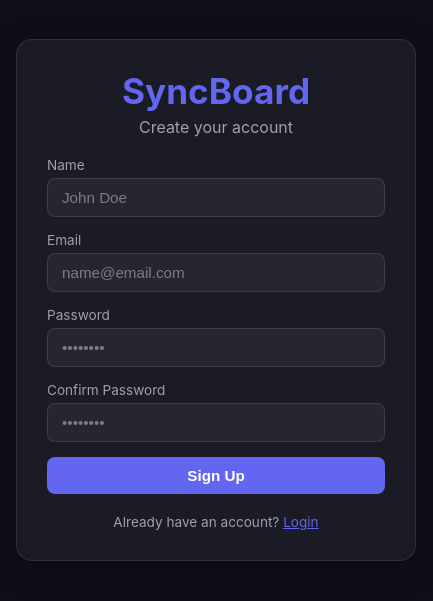
Scenario: SignUp Page › shows error when passwords do not match
Step 1. Type "Test User" into the field with placeholder "John Doe" → [216, 198], box [47,178,385,217]
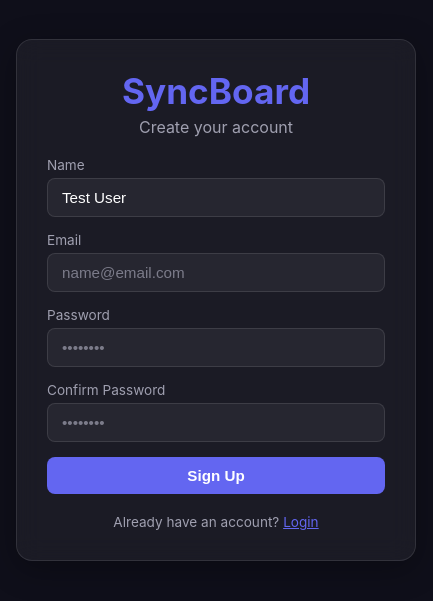
Step 2. Type "test@example.com" into the field with placeholder "name@email.com" → [216, 272], box [47,253,385,292]
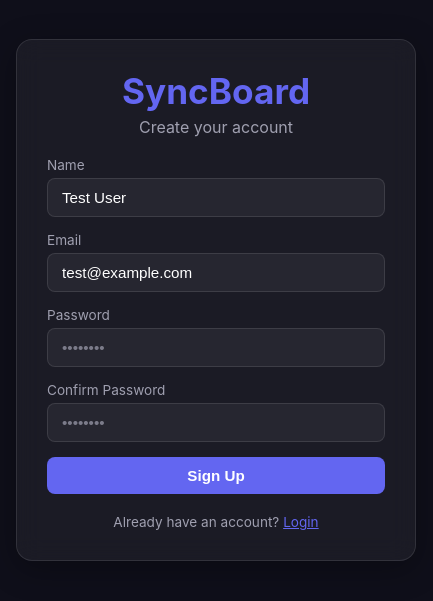
Step 3. Type "password123" into the 1st password field with placeholder "••••••••" → [216, 348], box [47,328,385,367]
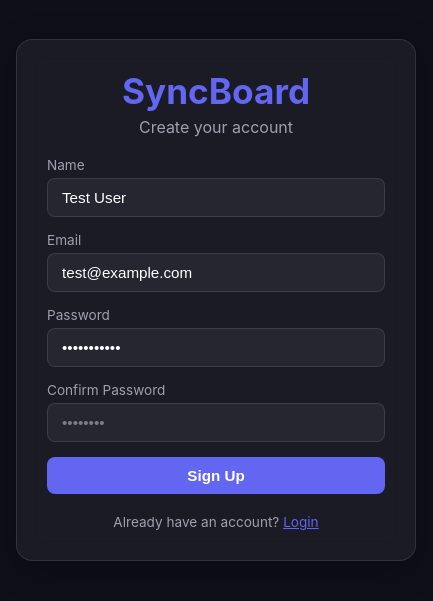
Step 4. Type "different123" into the password field with placeholder "••••••••" → [216, 422], box [47,403,385,442]
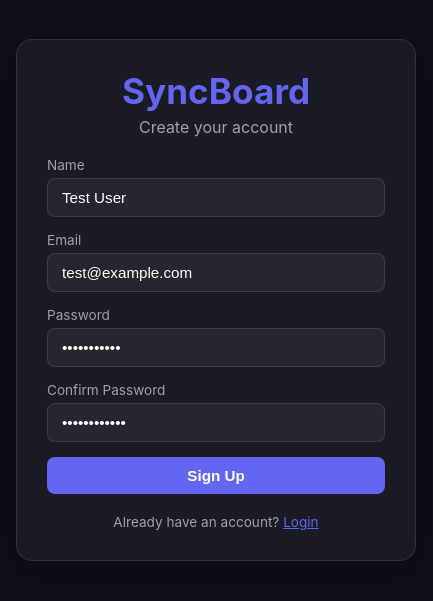
Step 5. Click the button "Sign Up" → [216, 476], box [47,457,385,494]
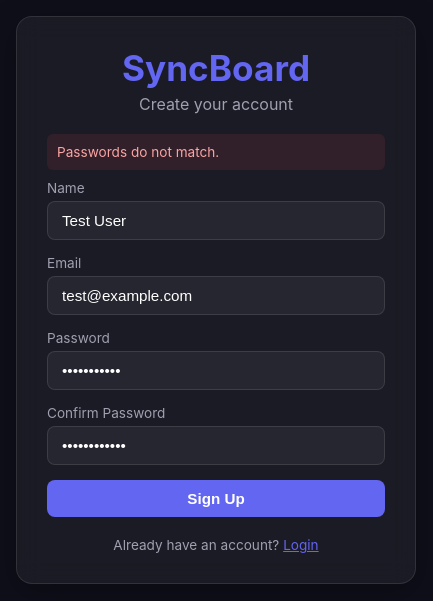
Check: the text "Passwords do not match." is shown, box [47,134,385,170]
